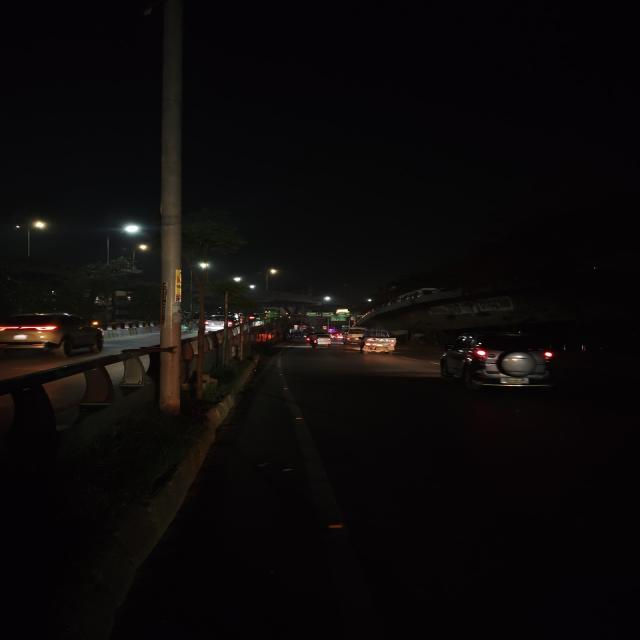car: (435, 328, 561, 394), (0, 310, 109, 359), (204, 315, 239, 331), (304, 331, 334, 347)
pickup_van: (359, 331, 398, 356)
